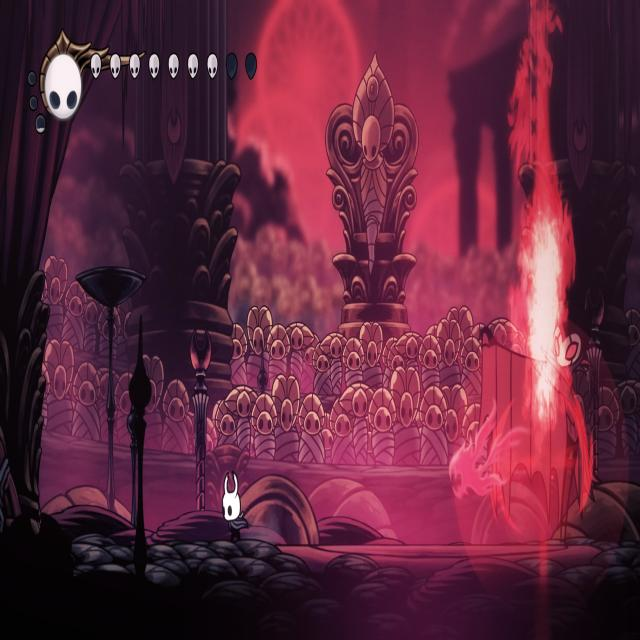Fire Bat: (451, 406, 526, 500)
Open Cloak: (474, 309, 605, 547)
Player: (221, 464, 250, 547)
